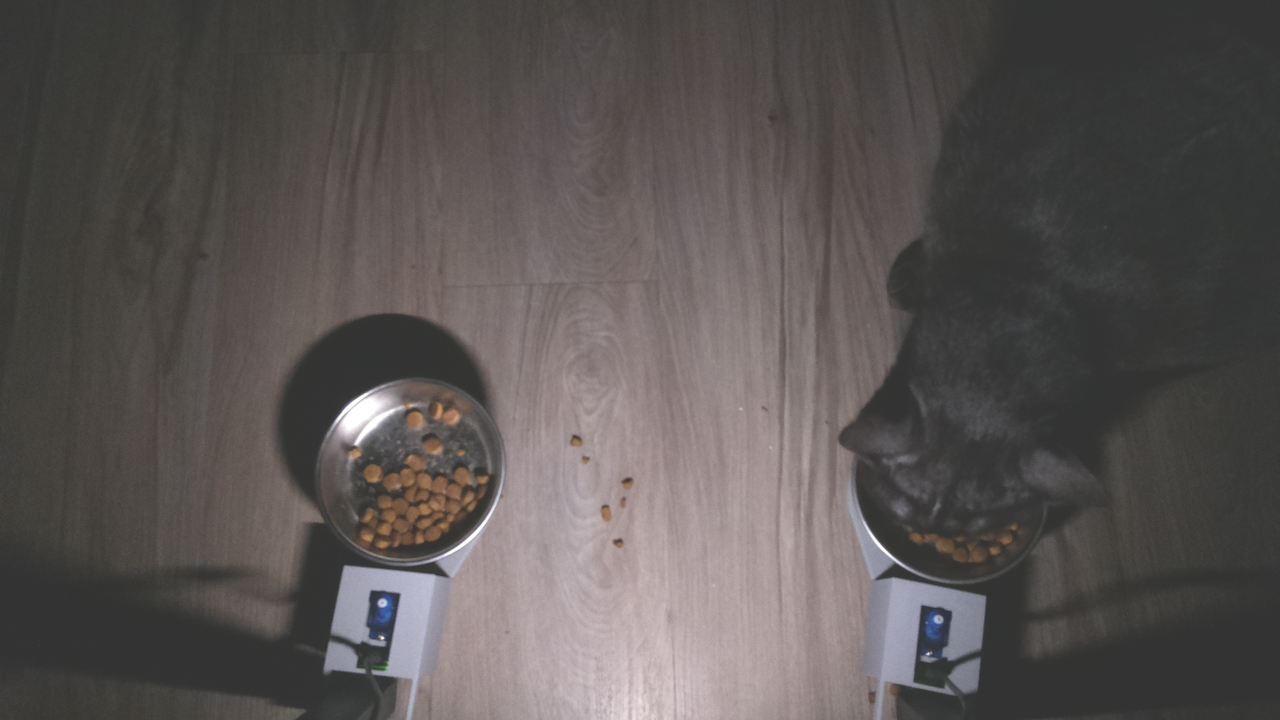open_bowl: (309, 373, 506, 568)
saki_eating: (832, 325, 1121, 593)
